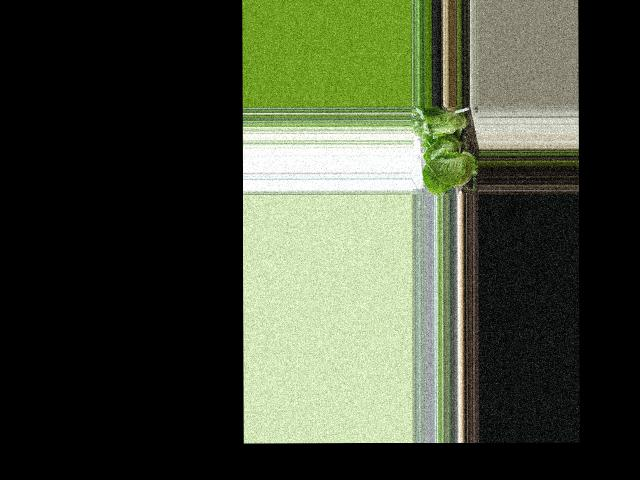lettuce: (417, 109, 473, 139)
